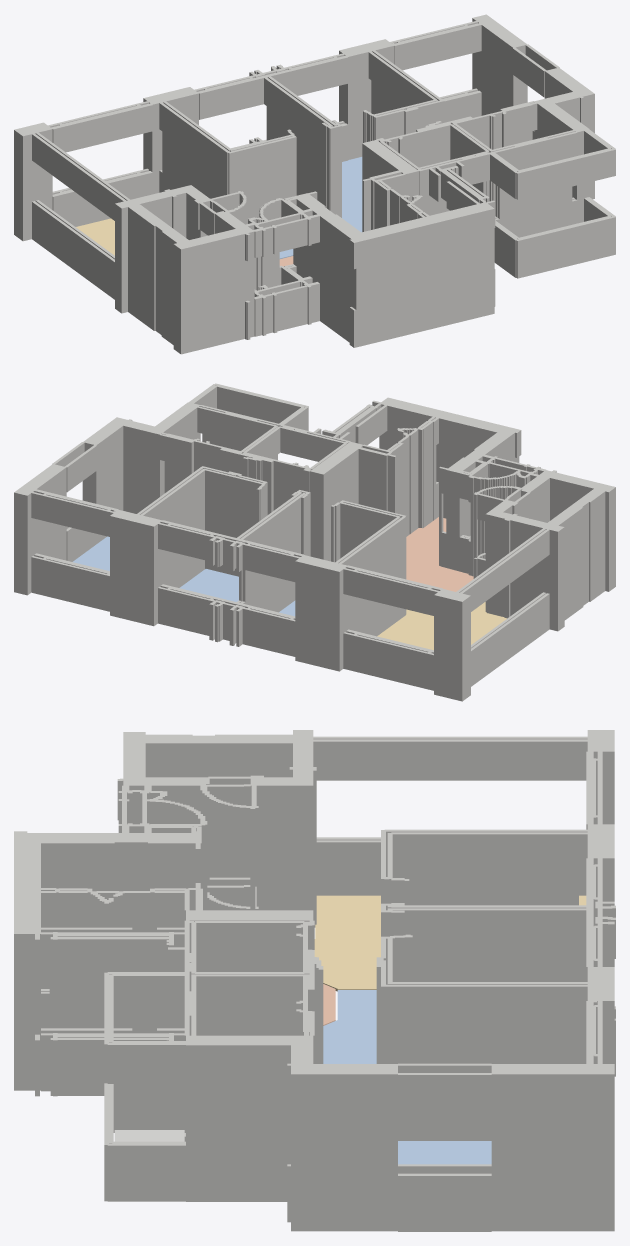
The picture shows the model from 3 angles, top to bottom: view 1: azimuth 30°, elevation 25°; view 2: azimuth 150°, elevation 25°; view 3: azimuth 270°, elevation 25°; orthographic projection. The views are drawn at different scales.
Parts seen in each view (by area): view 1: walls, room:bedroom:5, room:living:0; view 2: walls, room:kitchen:8, room:living:0, room:bedroom:5, room:bedroom:6; view 3: walls, room:living:0, room:bedroom:1, room:bedroom:6, room:ledge:3.
Part boxes in pixels (left/top/right/bottom): walls: left=14, top=14, right=615, bottom=354; room:bedroom:5: left=342, top=157, right=362, bottom=232; room:living:0: left=76, top=218, right=114, bottom=255; walls: left=14, top=383, right=615, bottom=701; room:kitchen:8: left=406, top=517, right=473, bottom=591; room:living:0: left=377, top=602, right=506, bottom=650; room:bedroom:5: left=179, top=569, right=238, bottom=601; room:bedroom:6: left=73, top=536, right=109, bottom=570; walls: left=14, top=730, right=615, bottom=1231; room:living:0: left=314, top=895, right=586, bottom=991; room:bedroom:1: left=323, top=990, right=376, bottom=1063; room:bedroom:6: left=398, top=1141, right=491, bottom=1164; room:ledge:3: left=114, top=1130, right=184, bottom=1141.
Bounding box in the file's own units: 13.2 × 2.8 × 9.74.
